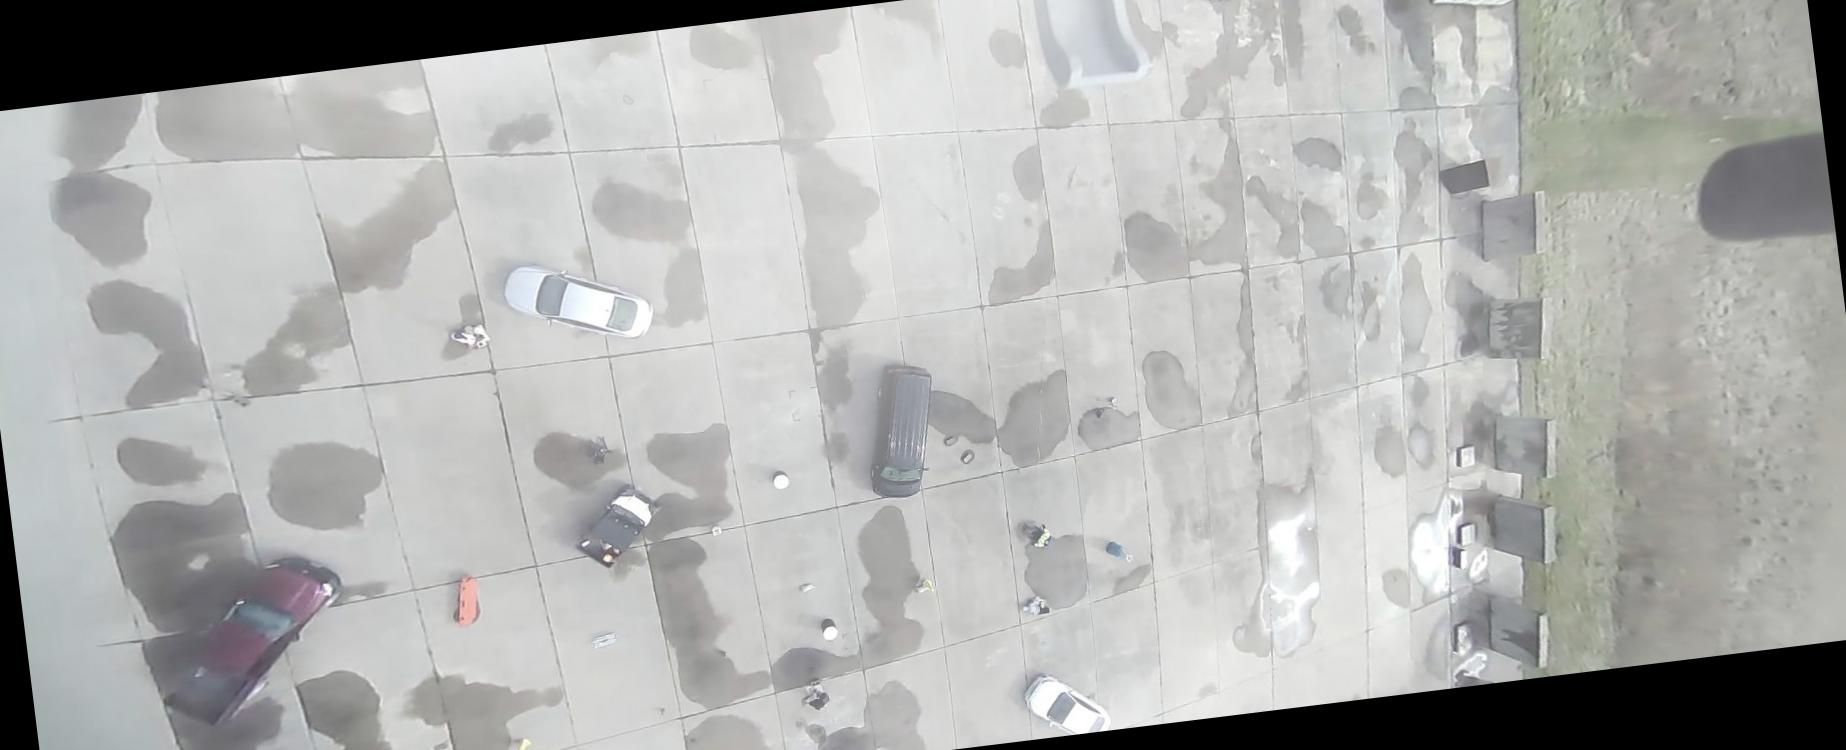vehicle: (146, 550, 357, 734), (498, 250, 657, 354), (856, 358, 944, 502), (566, 479, 668, 572), (1021, 666, 1111, 739)
